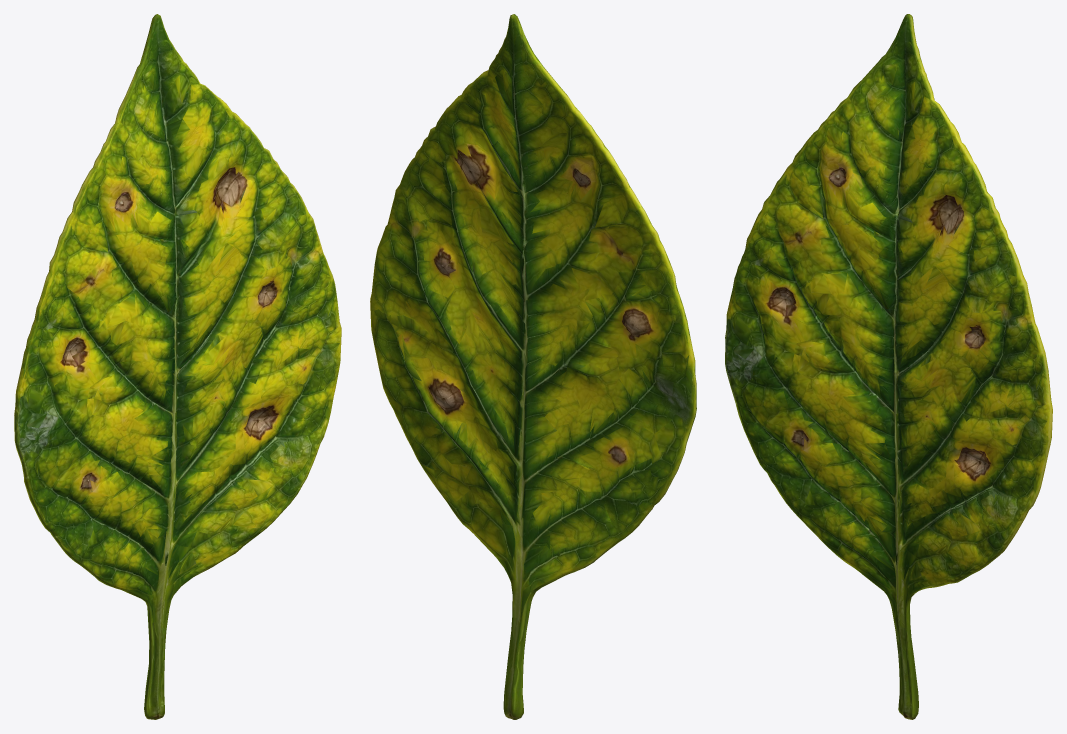
File: chilli_anthracnose.glb
The picture shows the model from 3 angles, left to right: view 1: azimuth 30°, elevation 25°; view 2: azimuth 150°, elevation 25°; view 3: azimuth 330°, elevation 25°; orthographic projection.
Visible parts, largest first — view 1: chilli_anthracnose; view 2: chilli_anthracnose; view 3: chilli_anthracnose.
Part boxes in pixels (bbox=[...]): chilli_anthracnose: bbox=[14, 14, 341, 719]; chilli_anthracnose: bbox=[370, 14, 696, 719]; chilli_anthracnose: bbox=[725, 14, 1052, 719].
Size of the model in its own units: 0.4843 by 1 by 0.0788.
1 material, 1 textured.
